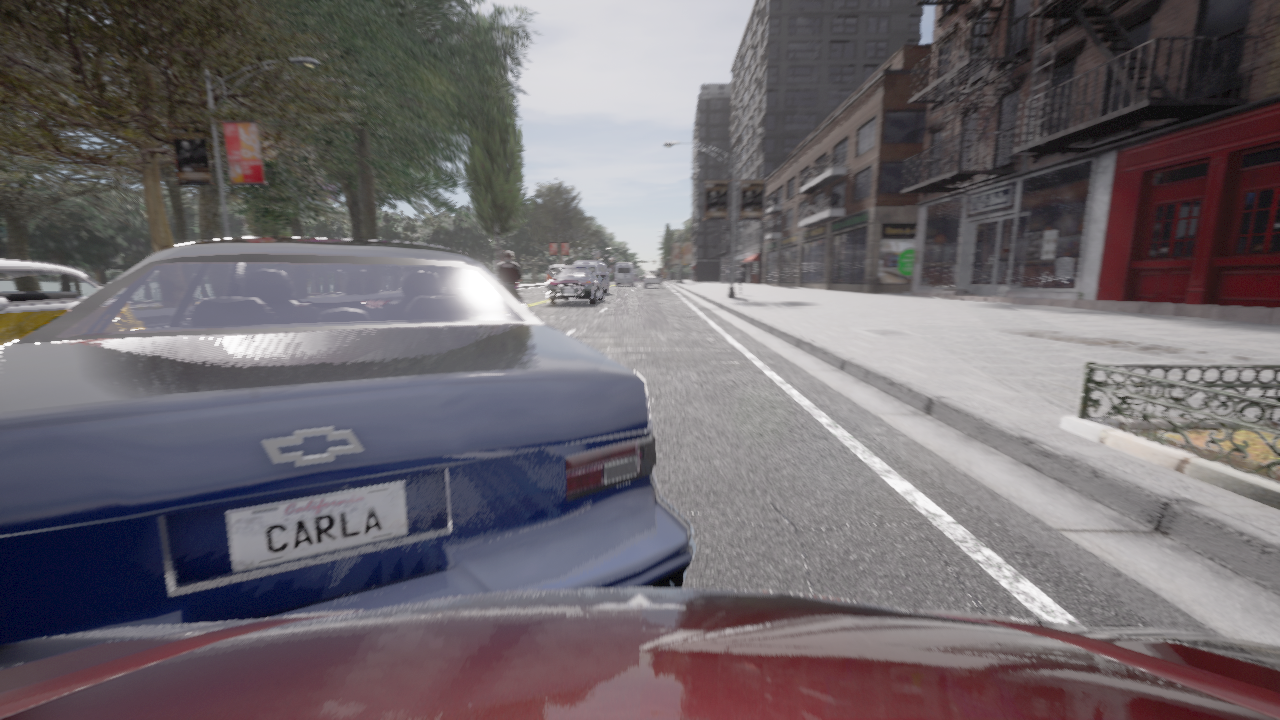cyclist: (0, 237, 695, 644), (0, 588, 1279, 719), (546, 267, 603, 304), (574, 261, 610, 293), (616, 263, 635, 285), (548, 265, 573, 280), (644, 271, 662, 287), (517, 283, 522, 299)
pedestrian: (738, 264, 743, 294)
